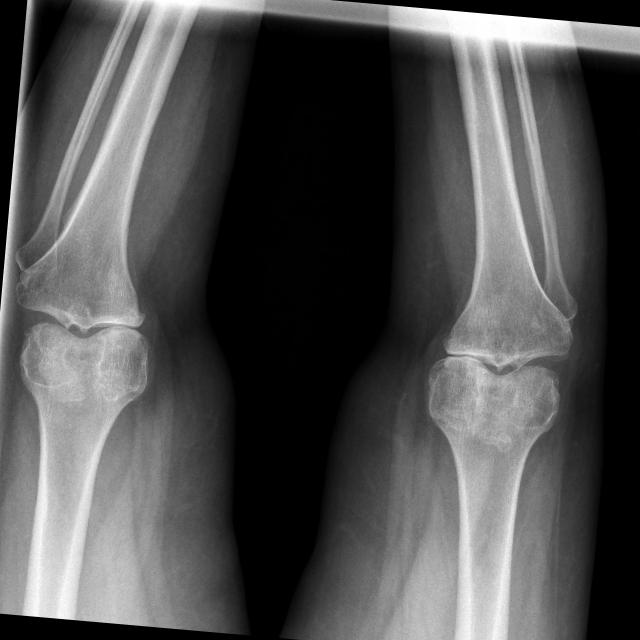Knee: (420, 300, 576, 428), (7, 258, 156, 384)
